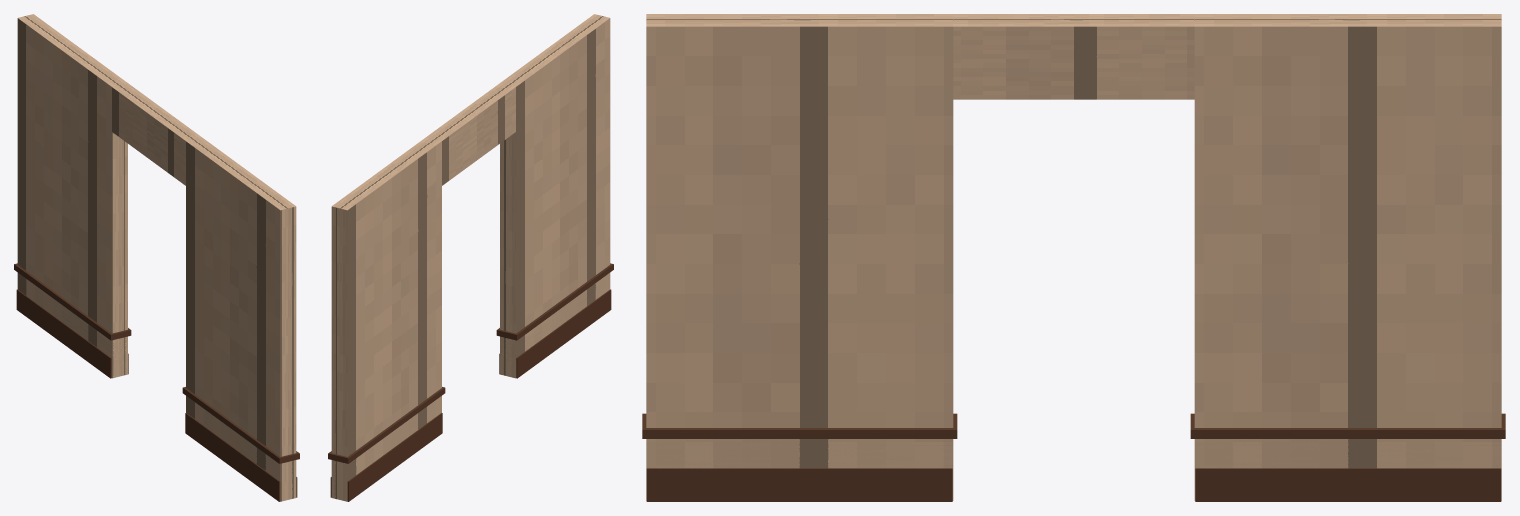
Rendered from dining_kitchen.glb.
3 renders of one model, left to right at view 1: azimuth 30°, elevation 25°; view 2: azimuth 150°, elevation 25°; view 3: azimuth 270°, elevation 25°, orthographic. The views are drawn at different scales.
Parts seen in each view (by area): view 1: Box3, Box1, Box5, Box4, Box2, Box6, Box7, Box9; view 2: Box1, Box3, Box5, Box2, Box4, Box8, Box7, Box9; view 3: Box3, Box1, Box5, Box2, Box4, Box6, Box8, Box7, Box9.
Boxes of the visible parts, <box> form: Box3: <box>186,137,296,501</box>; Box1: <box>17,14,127,378</box>; Box5: <box>112,83,201,185</box>; Box4: <box>185,413,297,501</box>; Box2: <box>16,289,128,378</box>; Box6: <box>17,273,127,377</box>; Box7: <box>14,263,131,340</box>; Box9: <box>182,387,299,463</box>; Box1: <box>331,137,441,501</box>; Box3: <box>500,14,610,378</box>; Box5: <box>426,83,515,185</box>; Box2: <box>330,413,442,501</box>; Box4: <box>499,289,611,378</box>; Box8: <box>500,275,609,377</box>; Box7: <box>328,387,445,463</box>; Box9: <box>496,263,613,340</box>; Box3: <box>646,14,953,500</box>; Box1: <box>1194,14,1501,500</box>; Box5: <box>953,14,1194,99</box>; Box2: <box>1195,468,1501,501</box>; Box4: <box>646,468,952,501</box>; Box6: <box>1194,439,1501,500</box>; Box8: <box>646,439,953,495</box>; Box7: <box>1190,413,1505,438</box>; Box9: <box>642,413,957,438</box>.
Bounding box in the file's own units: 0.19 × 2.6 × 4.29.
2 materials, 1 textured.
